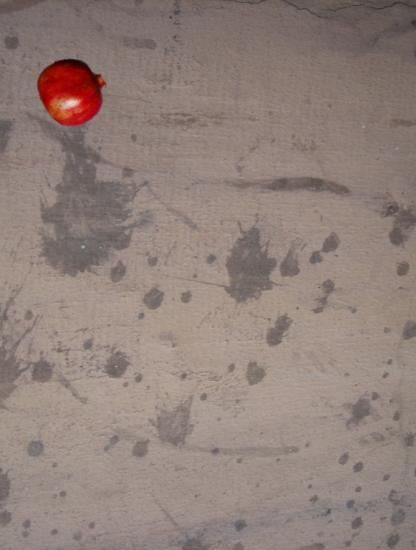Pomegranate: (38, 56, 109, 127)
